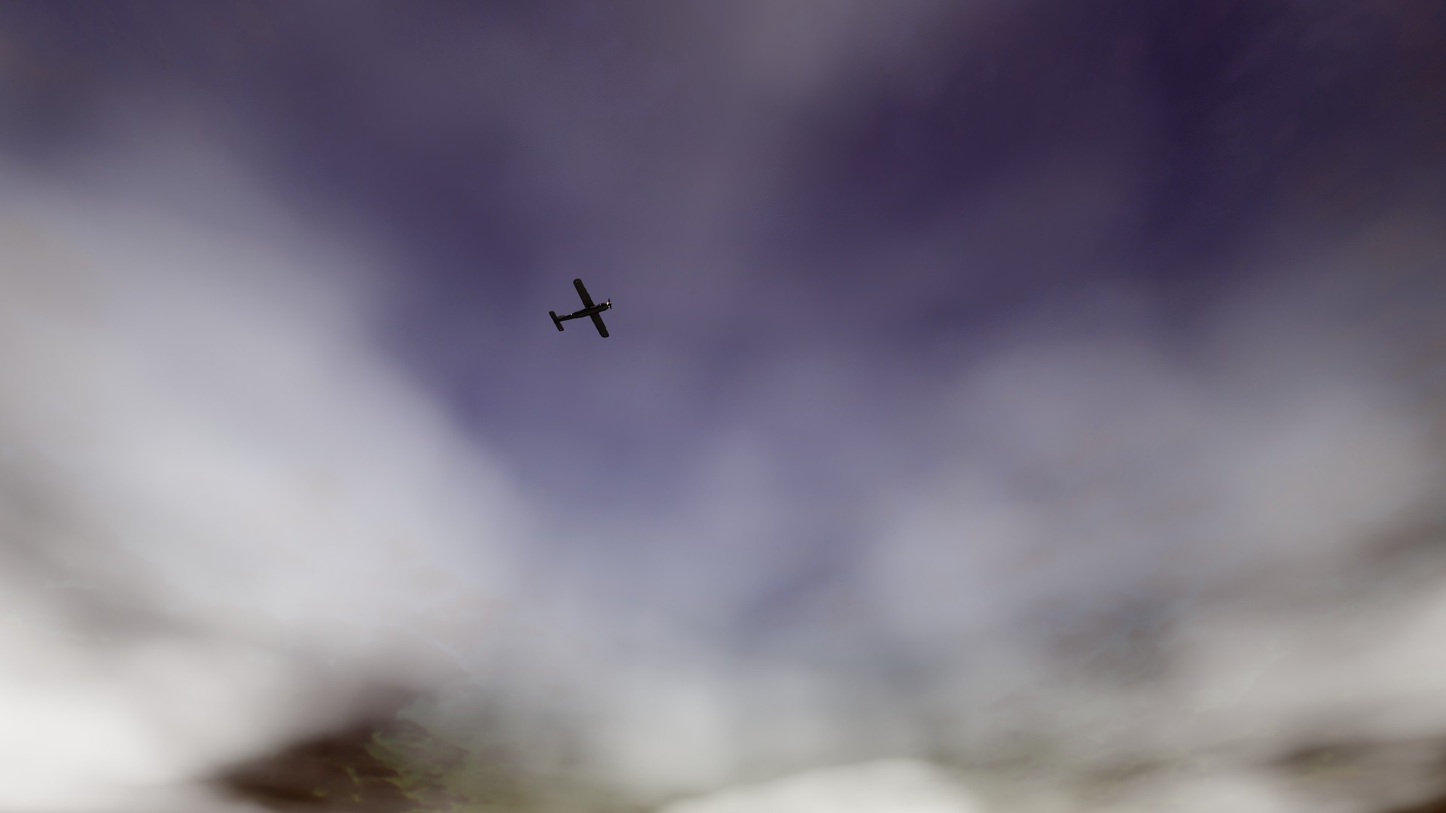drone_other: (549, 278, 612, 338)
